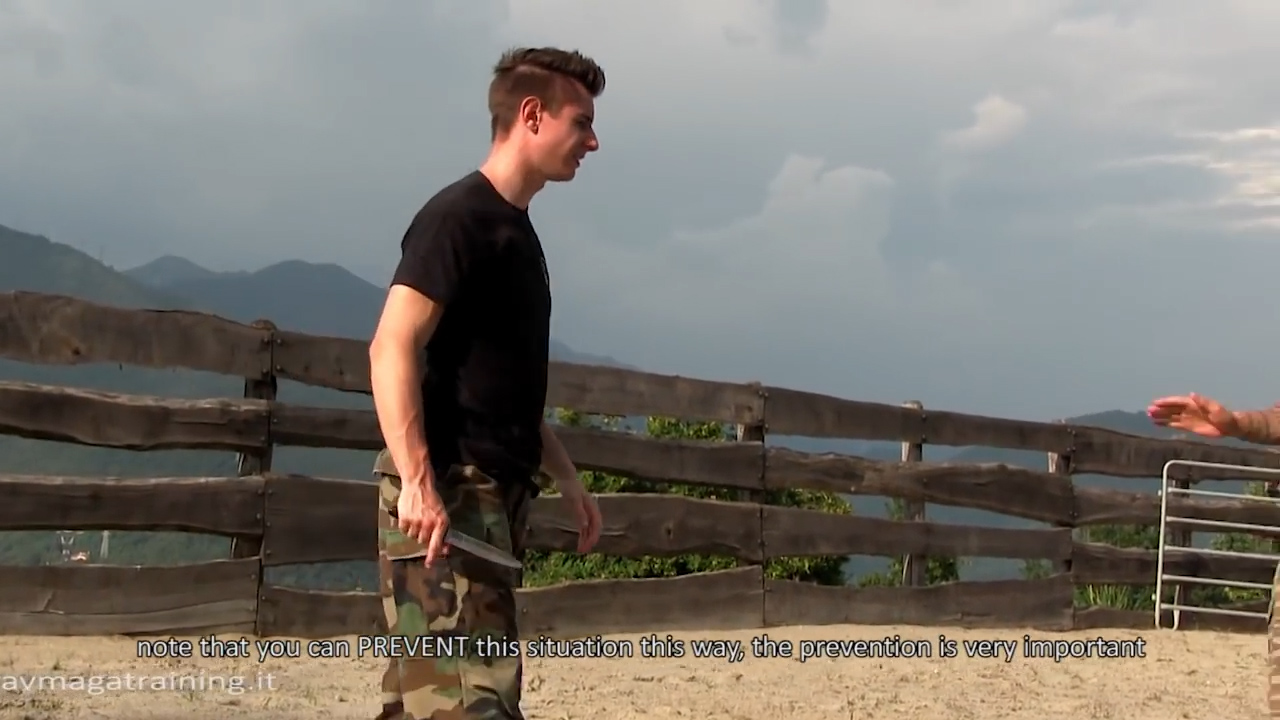knife: (378, 493, 530, 579)
